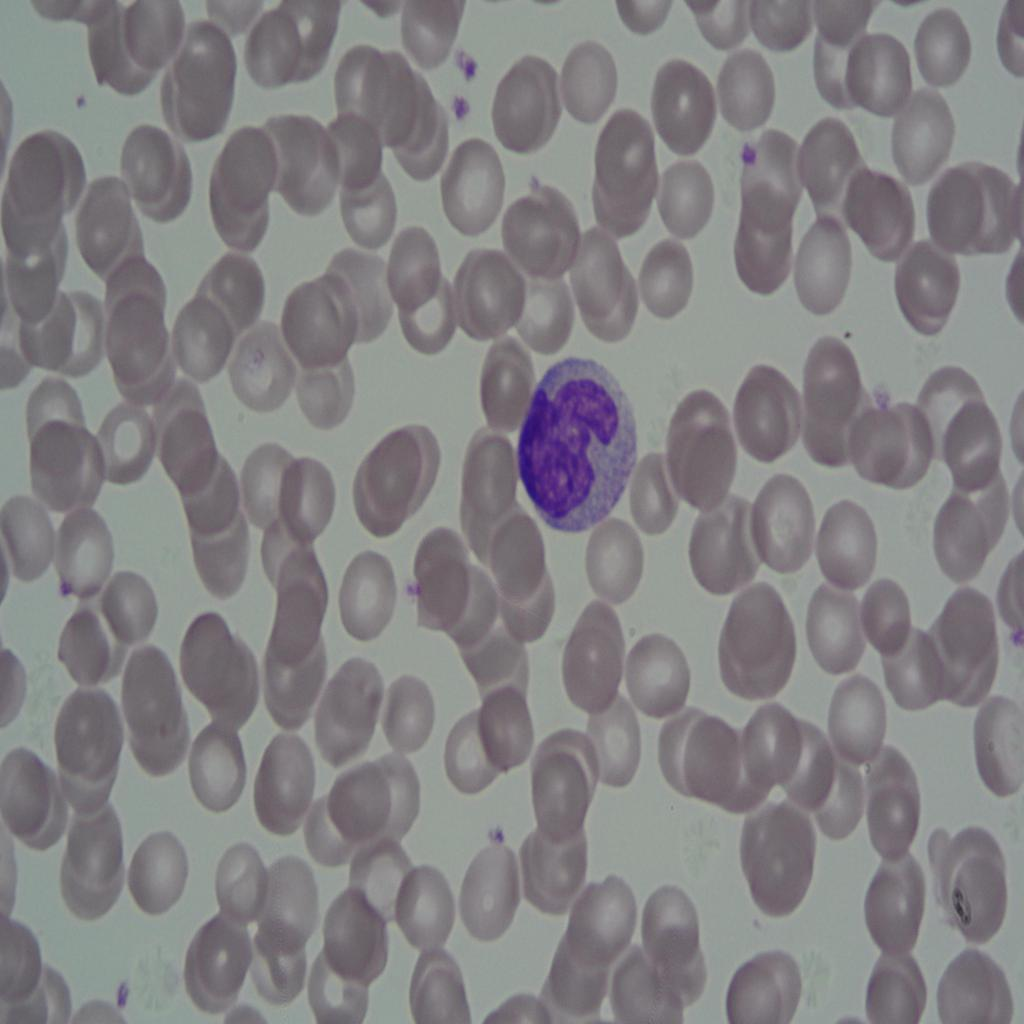Myeoblast: (516, 349, 638, 538)
Platelet: (109, 978, 142, 1017), (452, 42, 486, 77), (736, 138, 764, 176), (70, 77, 94, 121), (448, 87, 470, 126), (56, 562, 76, 602), (487, 818, 507, 852)
